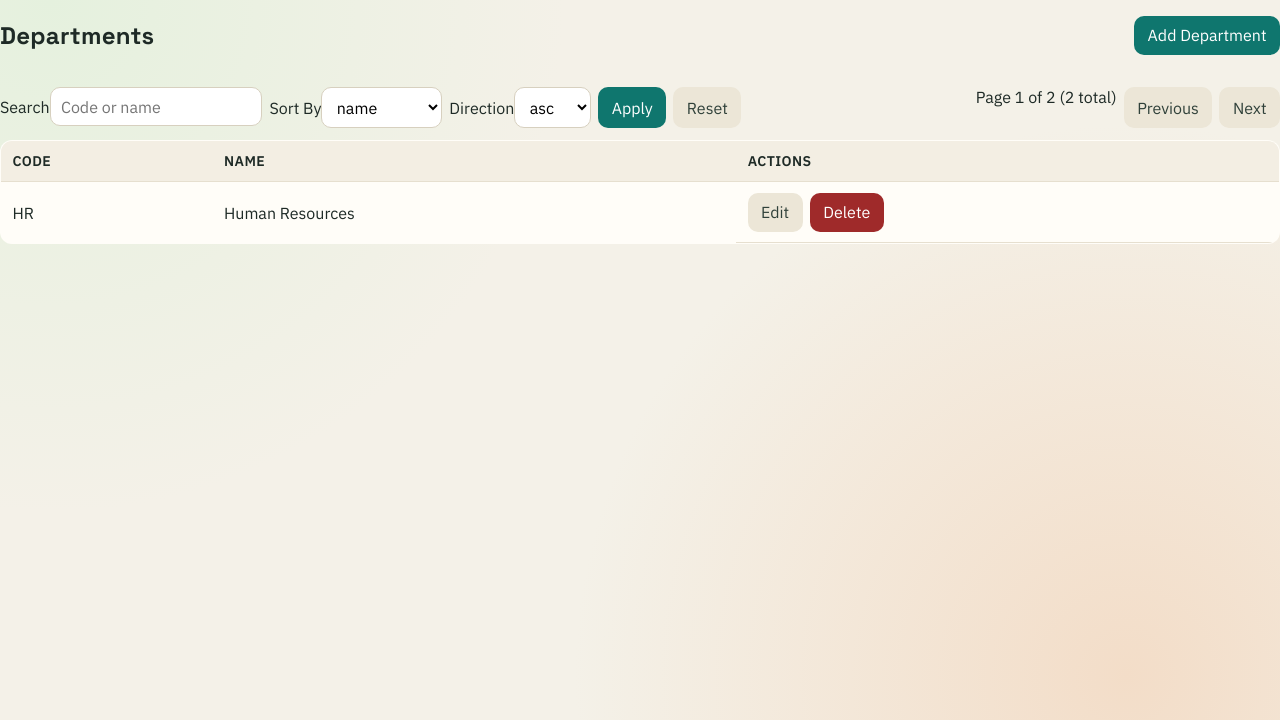
Scenario: DepartmentsPage sorting › creates a department from modal and refreshes list
expect the heading "Departments" is shown: met, box [0,20,154,51]
Click the button "Add Department" at (1207, 35), box [1134,16,1279,55]
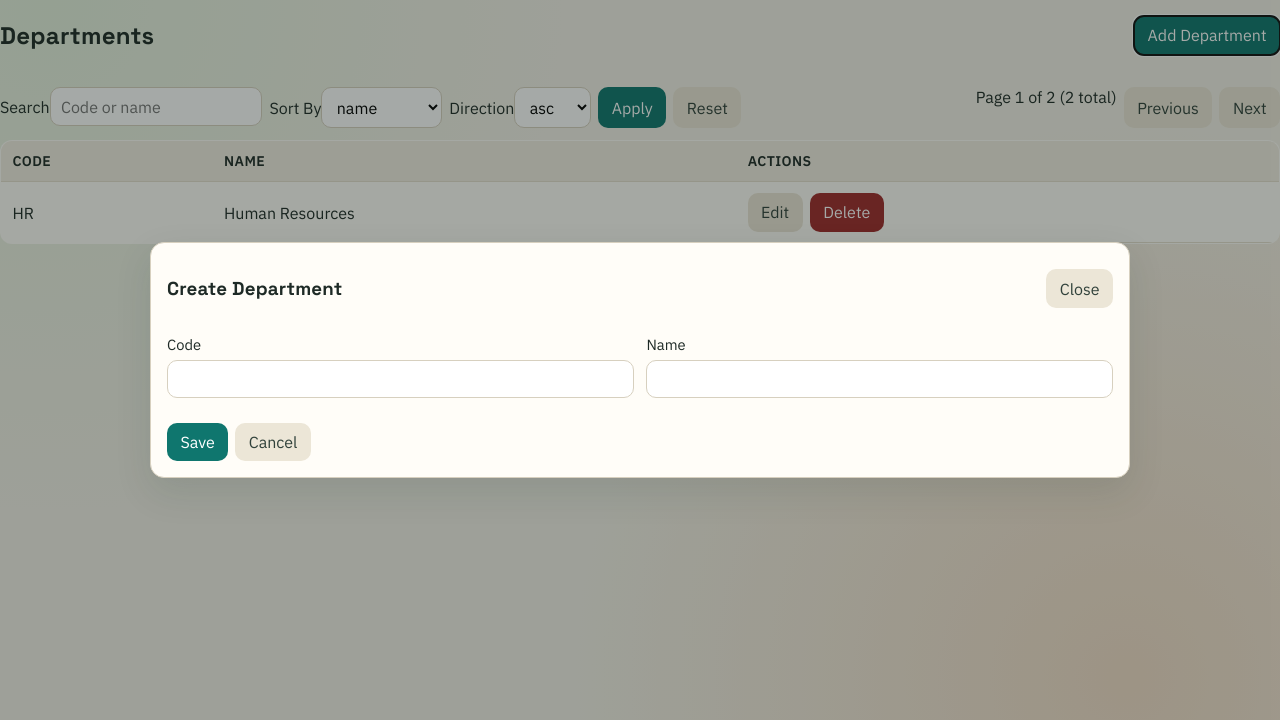
expect the heading "Create Department" is shown: met, box [167,277,342,300]
Type "OPS" into the field labelled "Code" at (400, 379), box [167,360,634,398]
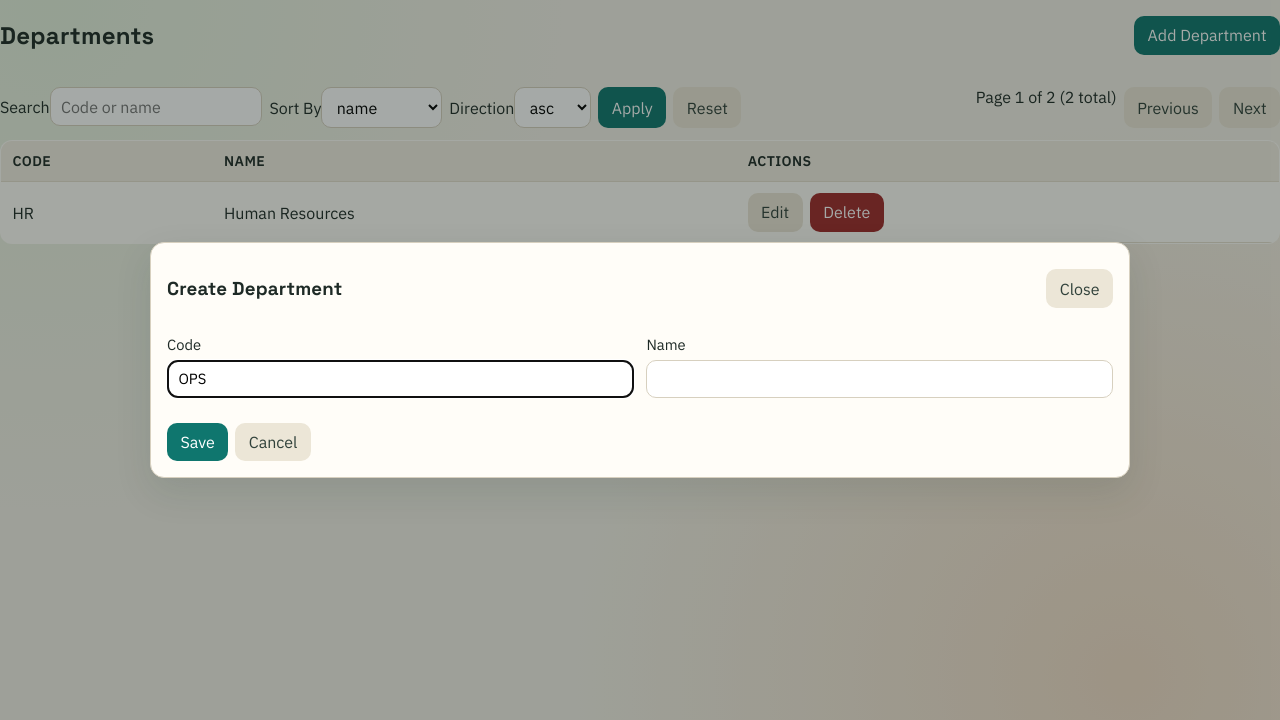
Type "Operations" into the field labelled "Name" at (880, 379), box [646,360,1113,398]
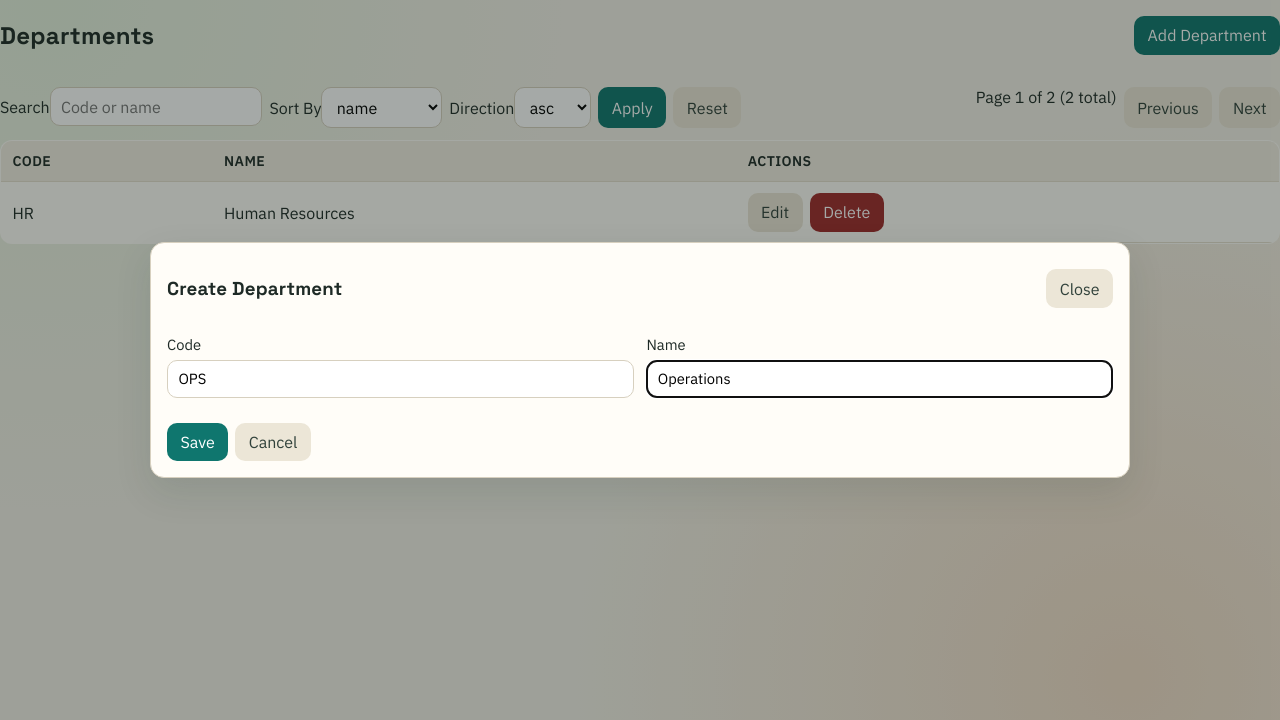
Click the button "Save" at (198, 442), box [167,423,228,461]
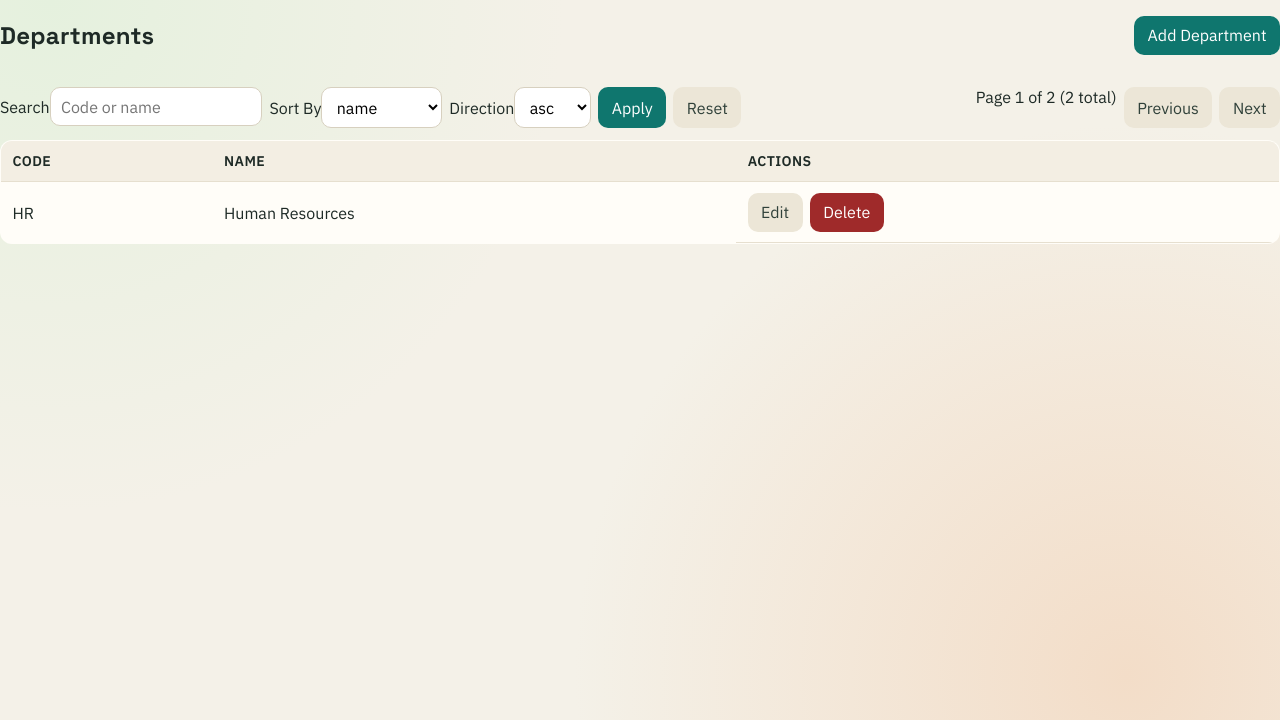
expect the heading "Create Department" is gone: met
